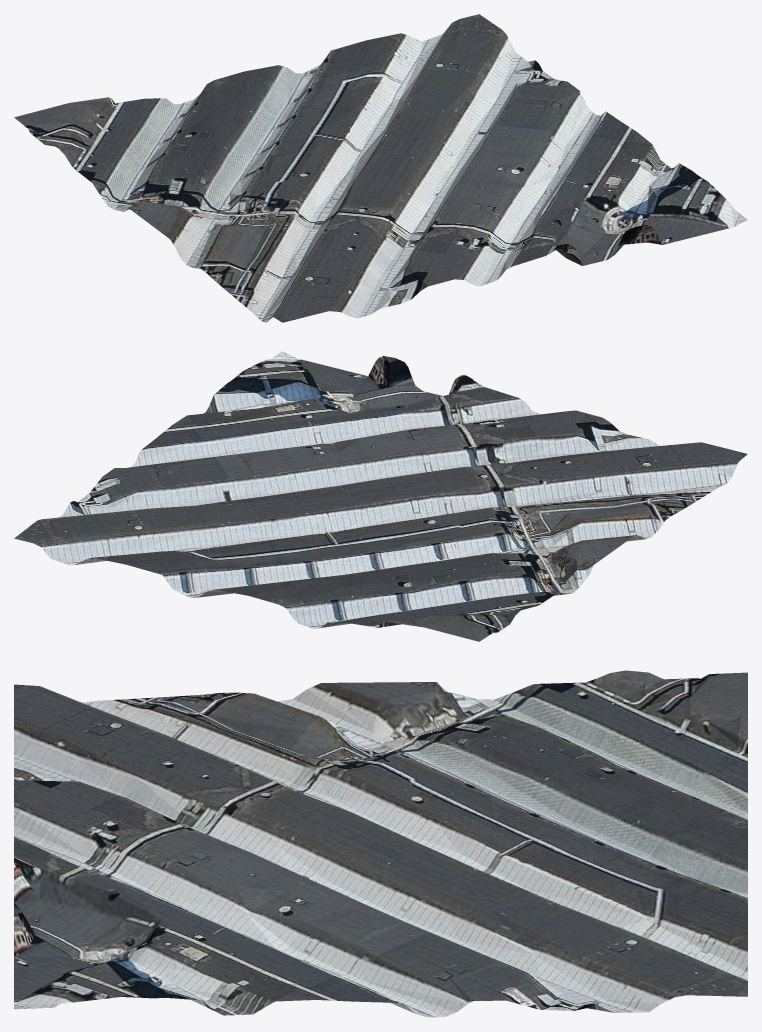
Rendered from map_15_8183_13785.dae.
The picture shows the model from 3 angles, top to bottom: view 1: azimuth 30°, elevation 25°; view 2: azimuth 150°, elevation 25°; view 3: azimuth 270°, elevation 25°; orthographic projection. The views are drawn at different scales.
Parts seen in each view (by area): view 1: Ter0; view 2: Ter0; view 3: Ter0.
Part boxes in pixels (x1=…): Ter0: x1=14, y1=14, x2=747, y2=322; Ter0: x1=14, y1=351, x2=747, y2=641; Ter0: x1=14, y1=670, x2=747, y2=1017.
Size of the model in its own units: 63.87 by 63.88 by 4.55.
Materials: 3 (3 with a texture image).
